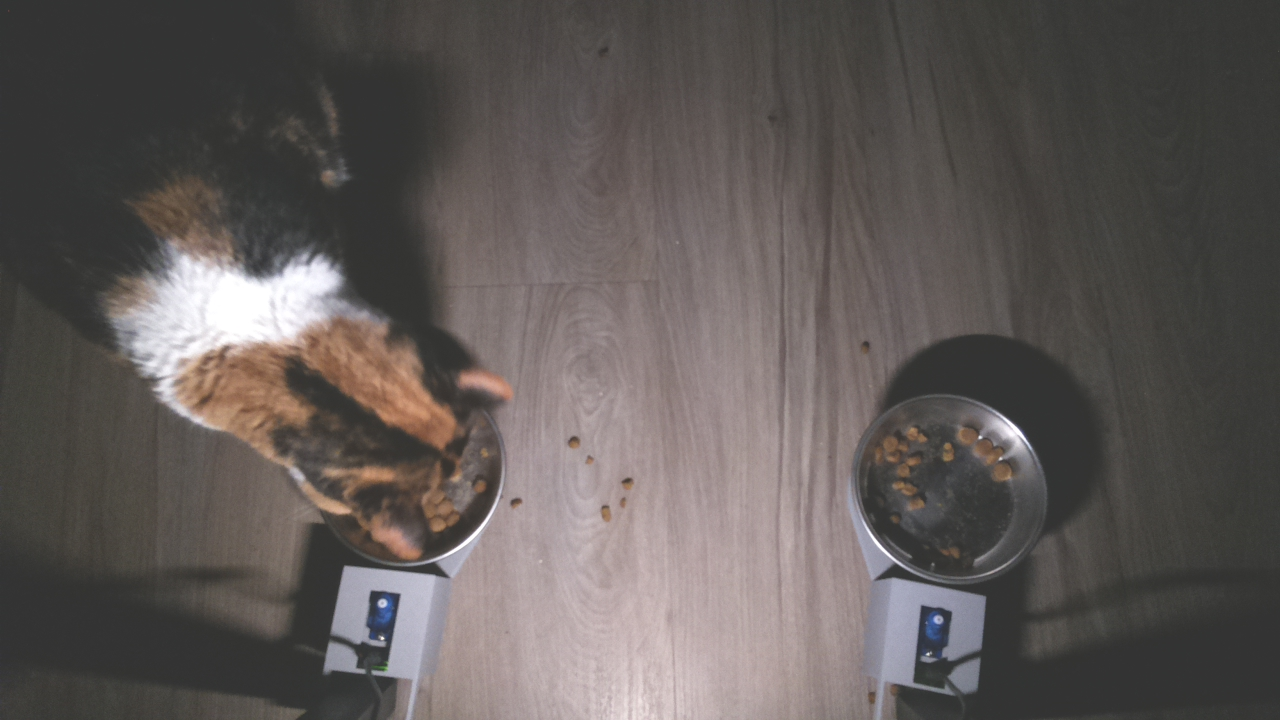bella_eating: (190, 255, 520, 579)
open_bowl: (850, 389, 1052, 587)
